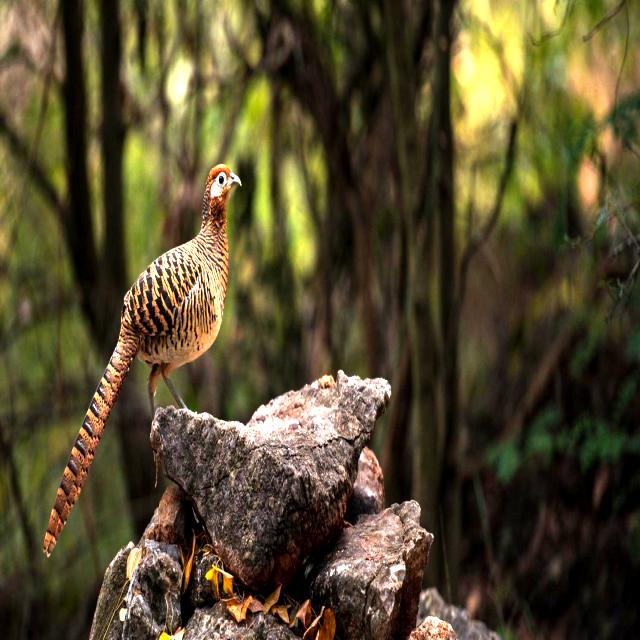Chrysolophus amherstiae: (44, 278, 141, 556)
